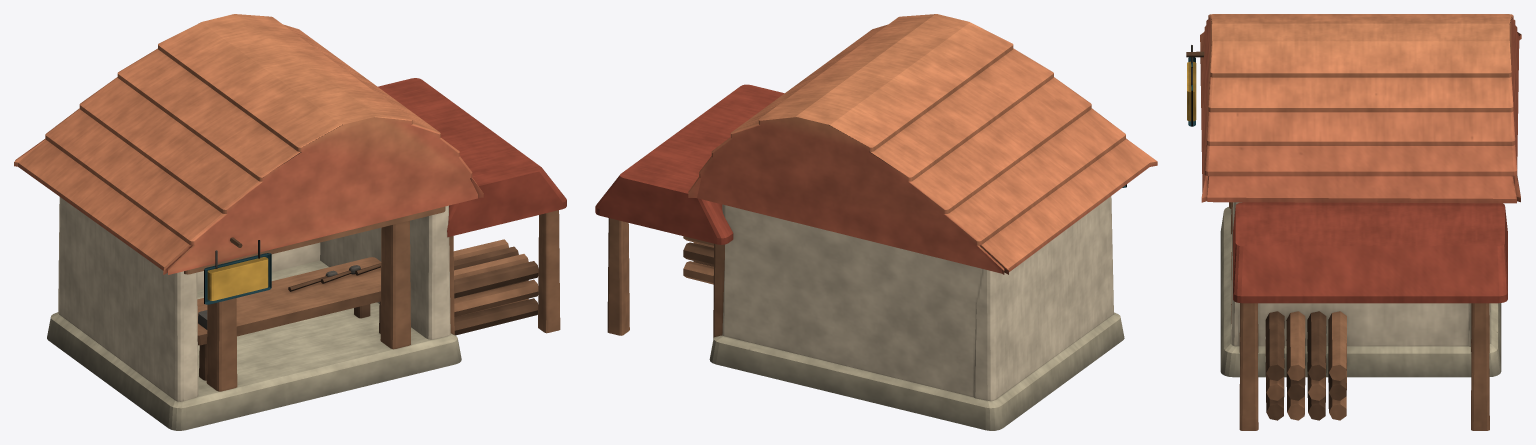
Rendered from workshop.glb.
The picture shows the model from 3 angles, left to right: view 1: azimuth 30°, elevation 25°; view 2: azimuth 150°, elevation 25°; view 3: azimuth 270°, elevation 25°; orthographic projection. The views are drawn at different scales.
Parts seen in each view (by area): view 1: Workshop; view 2: Workshop; view 3: Workshop.
Part boxes in pixels (<box>): Workshop: <box>14,14,566,430</box>; Workshop: <box>595,14,1157,430</box>; Workshop: <box>1186,14,1521,430</box>.
Bounding box in the file's own units: 5.43 × 3.34 × 3.53.
Materials: 1 (1 with a texture image).
